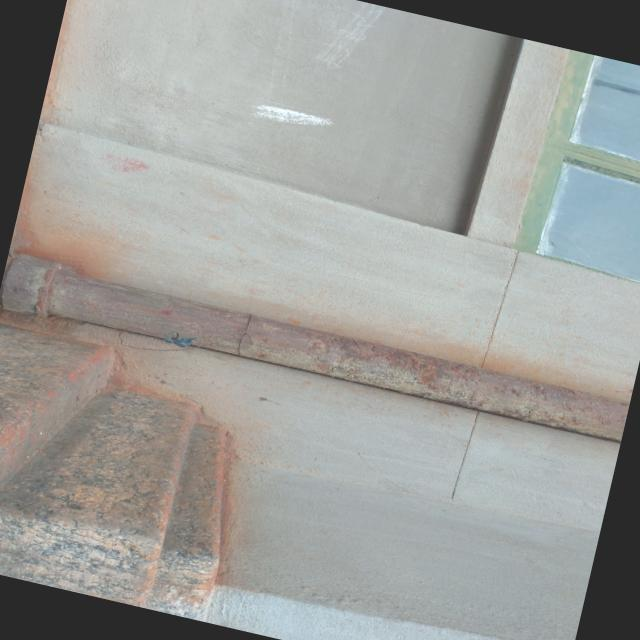gas: (3, 258, 630, 436)
